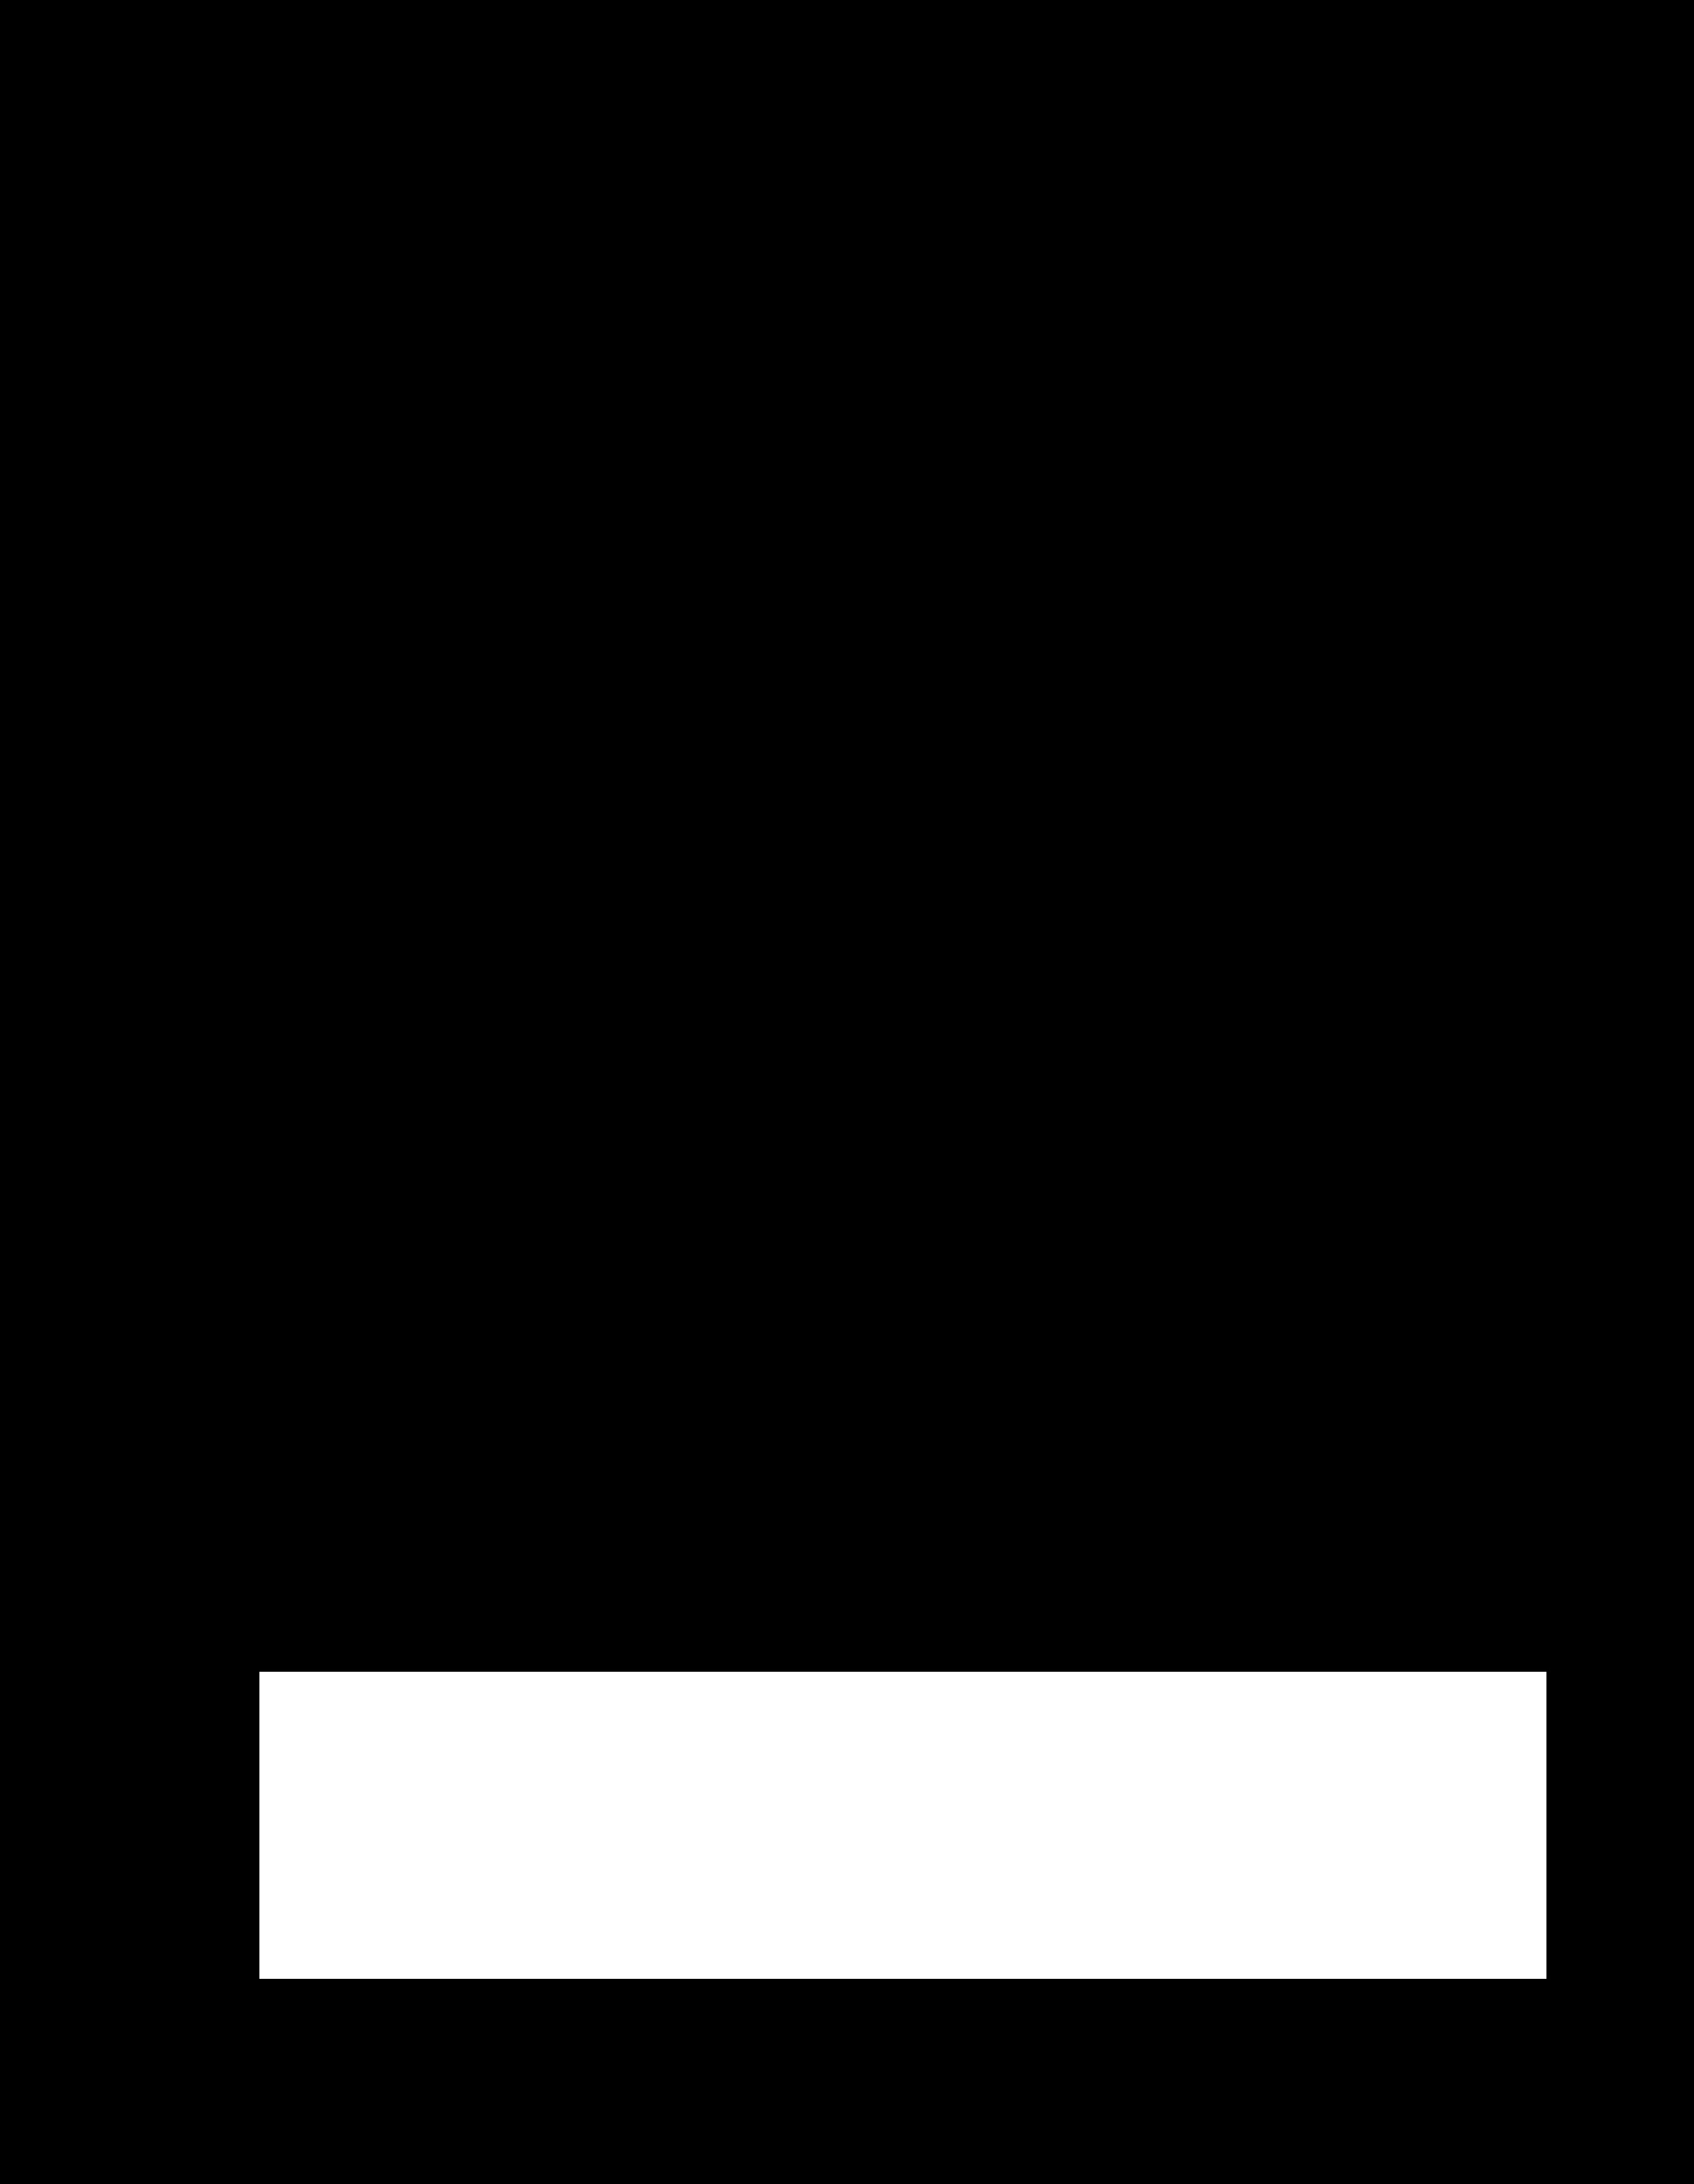table: (259, 1672, 1545, 1978)
